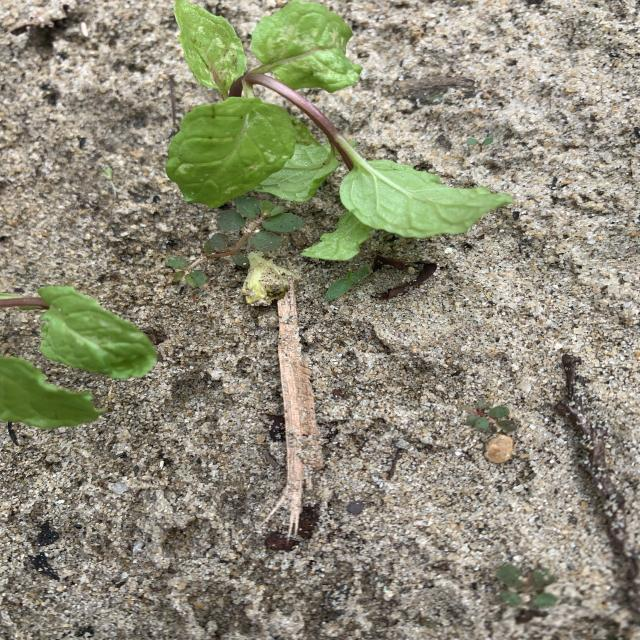crop: (166, 0, 513, 260), (1, 285, 155, 427)
weed: (166, 195, 303, 288), (496, 564, 557, 615), (325, 265, 372, 302), (466, 401, 517, 434), (466, 137, 494, 148)
